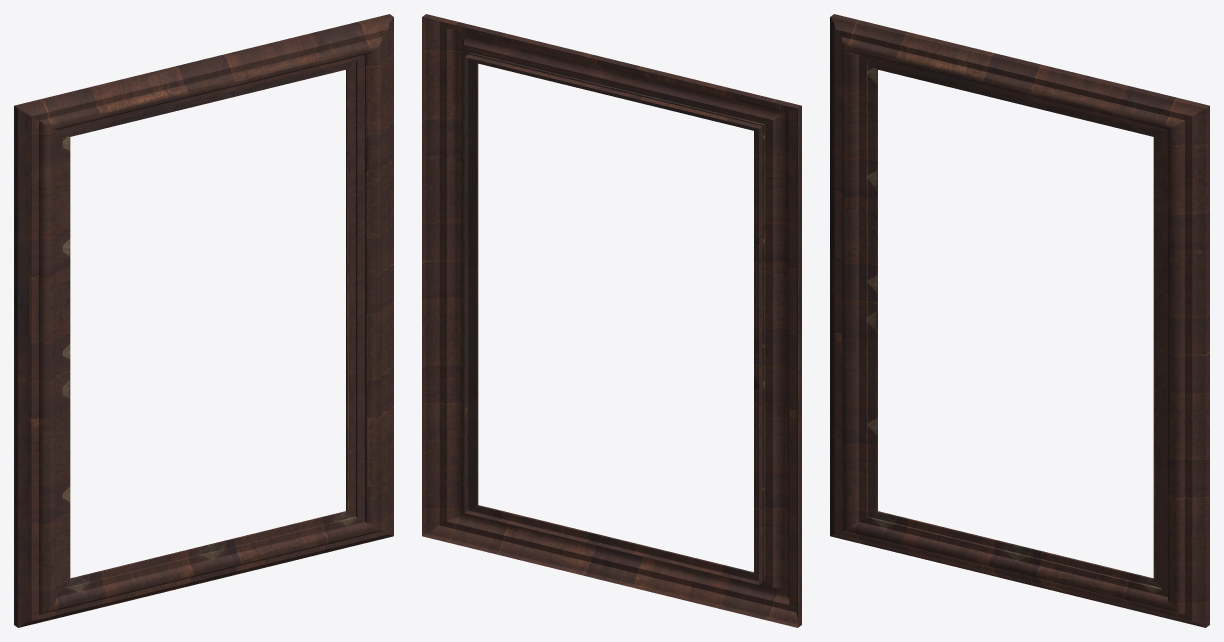
The model's file is quadroVetro.fbx.
3 views of the same model, side by side, from view 1: azimuth 30°, elevation 25°; view 2: azimuth 150°, elevation 25°; view 3: azimuth 330°, elevation 25° (orthographic).
Parts seen in each view (by area): view 1: pCube9_Frames_0; view 2: pCube9_Frames_0; view 3: pCube9_Frames_0.
Boxes of the visible parts, x1=… form: pCube9_Frames_0: x1=14, y1=14, x2=393, y2=627; pCube9_Frames_0: x1=422, y1=14, x2=801, y2=627; pCube9_Frames_0: x1=830, y1=14, x2=1209, y2=627.
Size of the model in its own units: 111 by 147 by 6.16.
